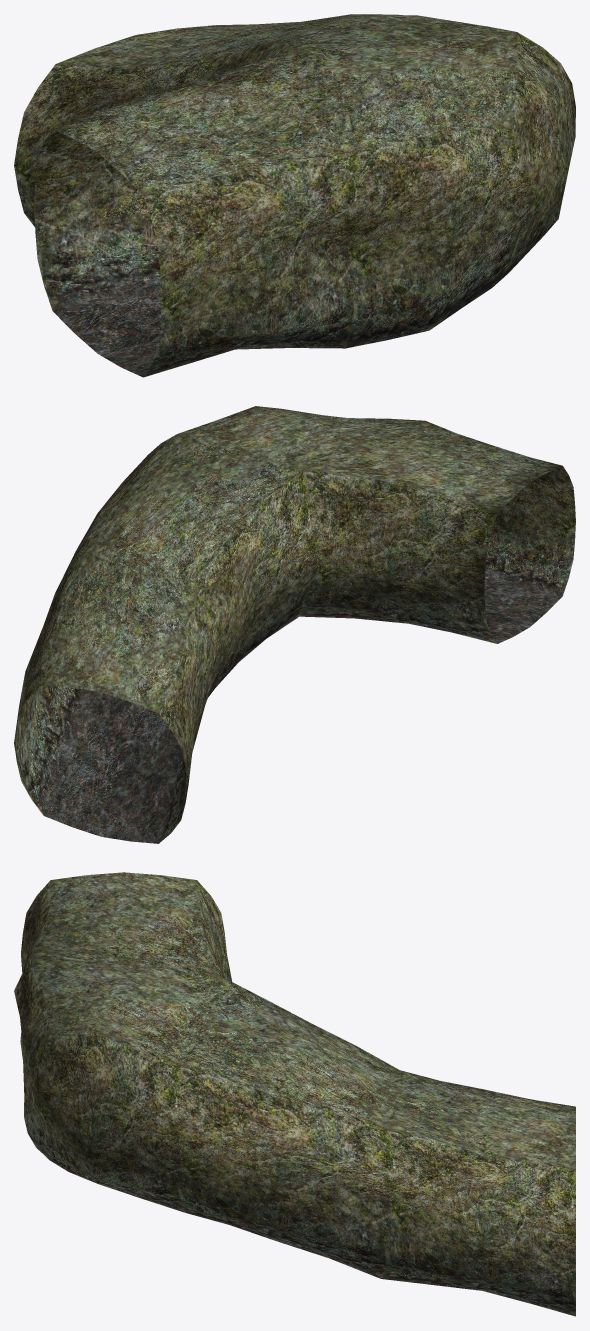
File: thm_all_cave_s03_damprock_mirror_r23_r23.fbx
3 renders of one model, top to bottom at view 1: azimuth 30°, elevation 25°; view 2: azimuth 150°, elevation 25°; view 3: azimuth 270°, elevation 25°, orthographic. The views are drawn at different scales.
Parts seen in each view (by area): view 1: mesh_node; view 2: mesh_node; view 3: mesh_node.
Part boxes in pixels (box(x1,y1,x2,y2)): mesh_node: box(14, 14, 575, 377); mesh_node: box(14, 406, 575, 843); mesh_node: box(14, 872, 575, 1316).
Size of the model in its own units: 21.23 by 14.67 by 24.86.
